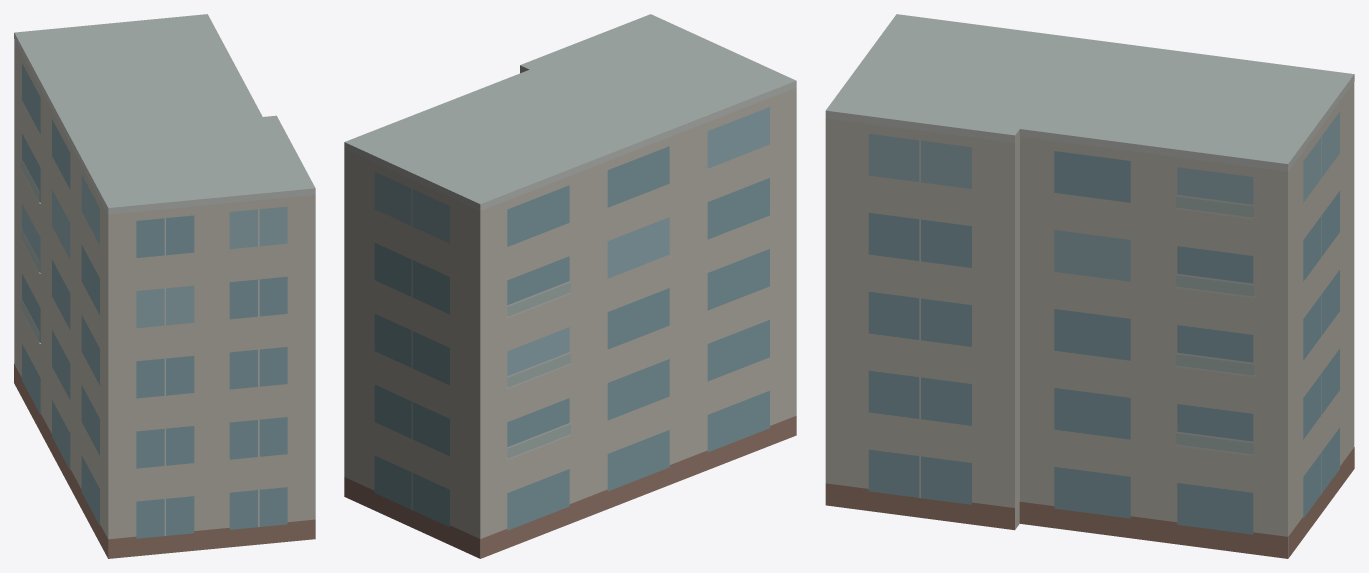
File: survey-upis-32495082.glb
The picture shows the model from 3 angles, left to right: view 1: azimuth 30°, elevation 25°; view 2: azimuth 150°, elevation 25°; view 3: azimuth 270°, elevation 25°; orthographic projection. The views are drawn at different scales.
Visible parts, largest first — view 1: survey-upis-32495082.tmp; view 2: survey-upis-32495082.tmp; view 3: survey-upis-32495082.tmp.
Boxes of the visible parts, x1,y1,x2,y2 form: survey-upis-32495082.tmp: (14,14,315,558); survey-upis-32495082.tmp: (344,14,796,558); survey-upis-32495082.tmp: (825,14,1354,558).
Size of the model in its own units: 10.49 by 12.85 by 15.61.
